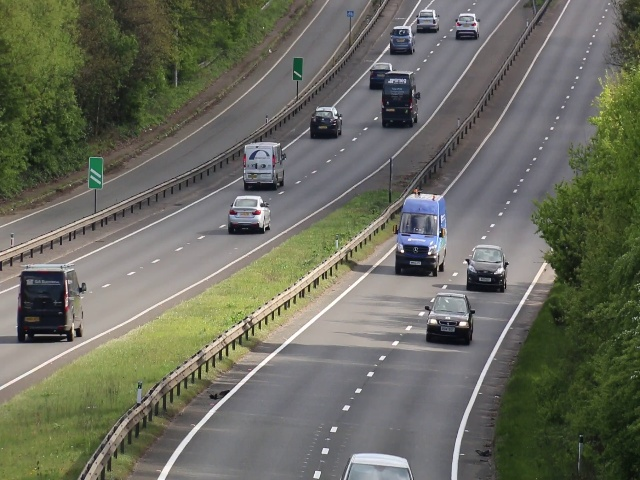car: (16, 268, 81, 339), (399, 197, 441, 278), (427, 291, 471, 343), (242, 143, 286, 188), (383, 70, 414, 129), (468, 244, 505, 290), (229, 195, 269, 232), (308, 106, 342, 140), (390, 26, 415, 53), (456, 14, 480, 38), (415, 9, 441, 31), (370, 63, 384, 90)
